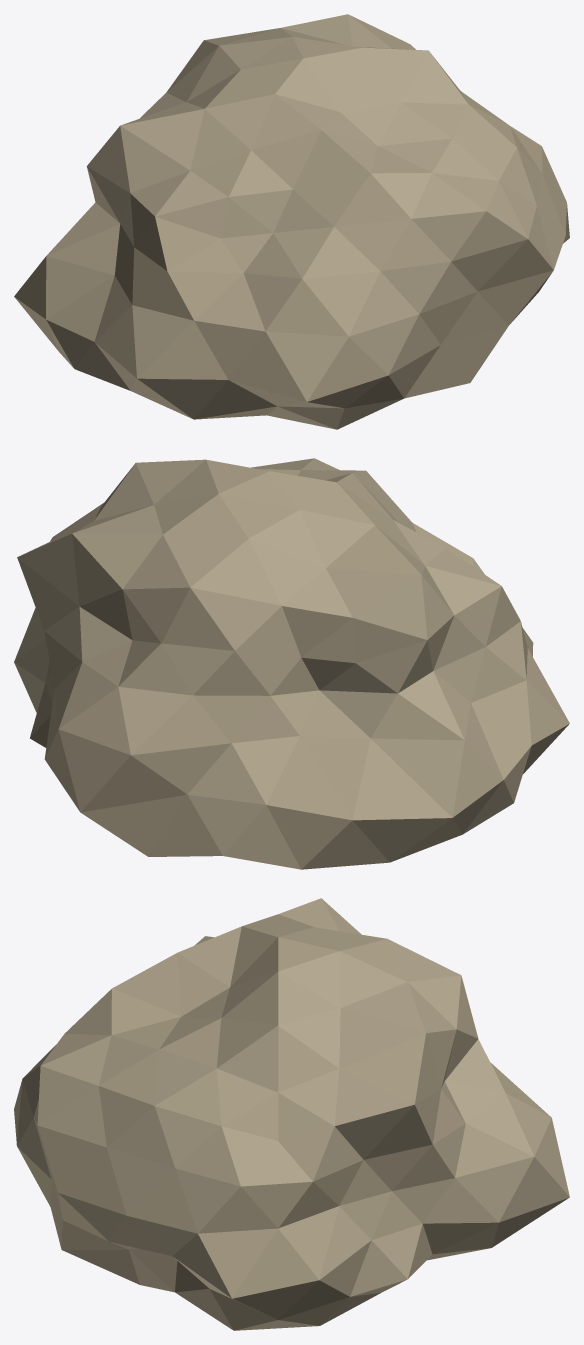
Rendered from SM_SB_Kit_RockBoulder.fbx.
3 renders of one model, top to bottom at view 1: azimuth 30°, elevation 25°; view 2: azimuth 150°, elevation 25°; view 3: azimuth 270°, elevation 25°, orthographic. The views are drawn at different scales.
Visible parts, largest first — view 1: SM_SB_Kit_RockBoulder; view 2: SM_SB_Kit_RockBoulder; view 3: SM_SB_Kit_RockBoulder.
Part boxes in pixels (bbox=[...]): SM_SB_Kit_RockBoulder: bbox=[14, 14, 569, 429]; SM_SB_Kit_RockBoulder: bbox=[14, 458, 569, 869]; SM_SB_Kit_RockBoulder: bbox=[14, 898, 569, 1330].
Size of the model in its own units: 1110 by 1049 by 641.
